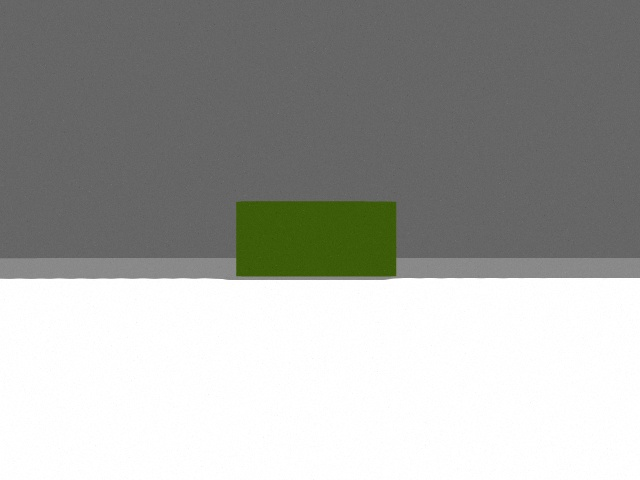green_drop_zone: (236, 201, 396, 277)
